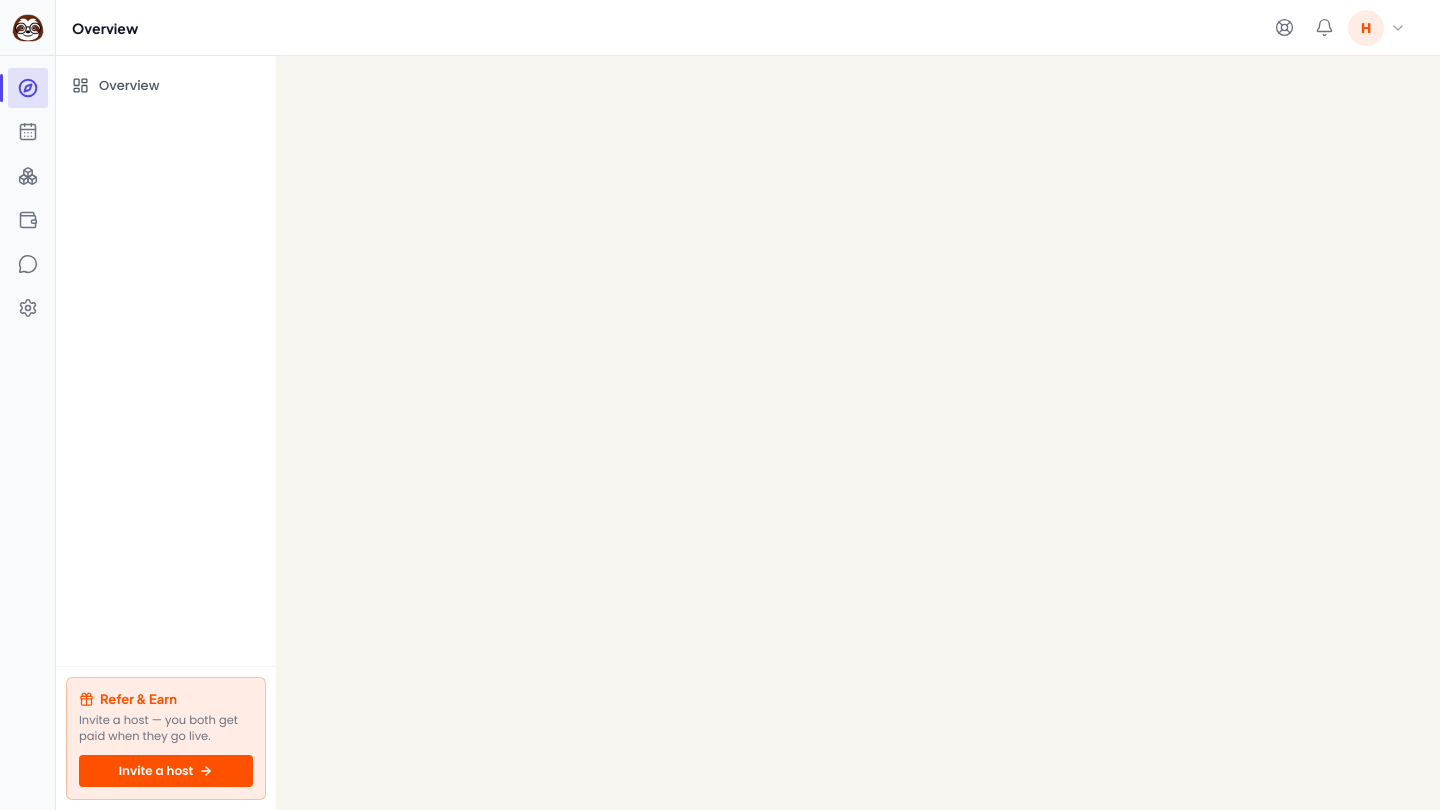
Test: dashboard topbar profile menu › offers account actions (Hostinger-style sections)
Click the button named "Profile menu" at (1377, 28), box [1346,8,1408,48]
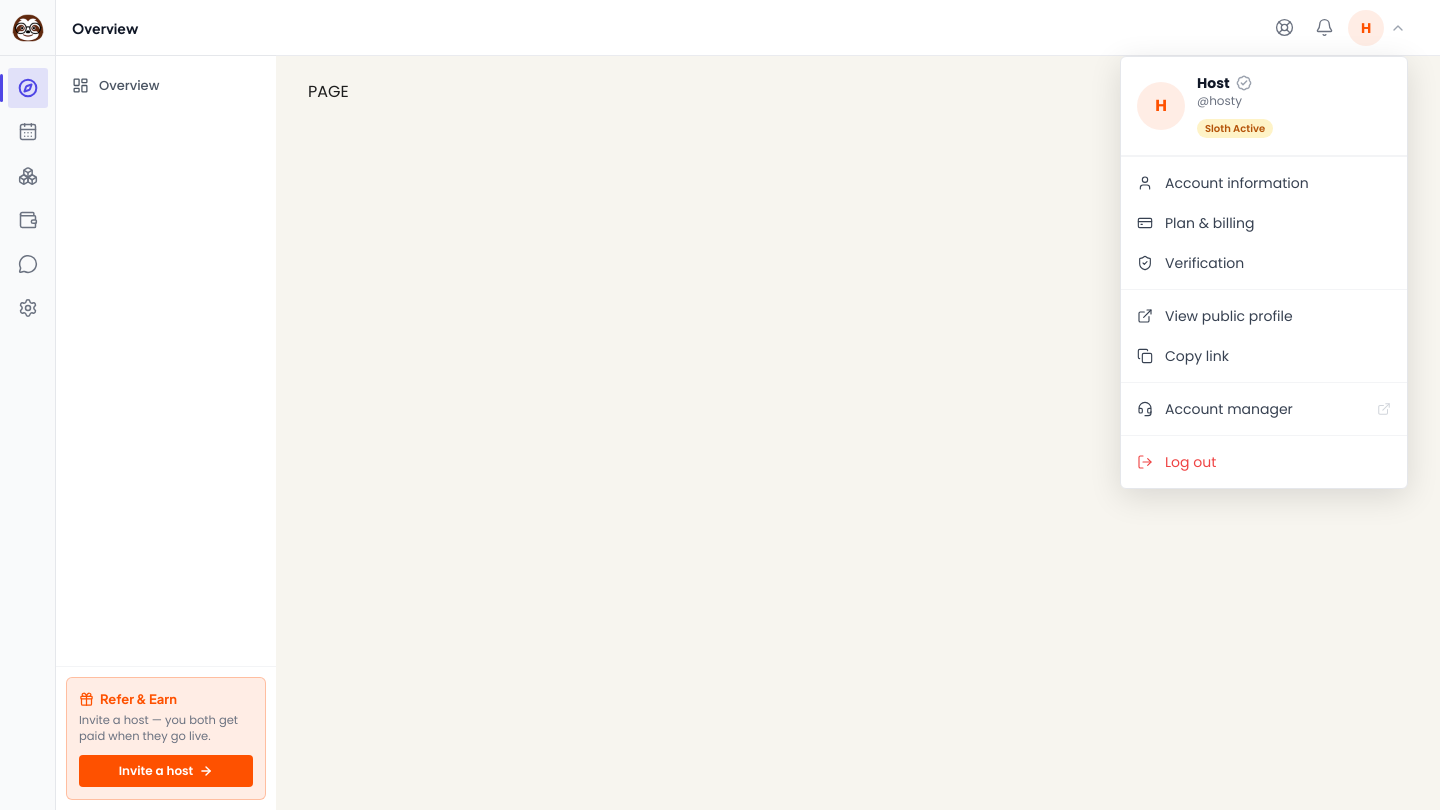
Now the text "Sloth Active" is shown, box [1197,118,1273,138]
Now the text "Account information" is shown, box [1165,172,1309,192]
Now the text "Plan & billing" is shown, box [1165,212,1254,232]
